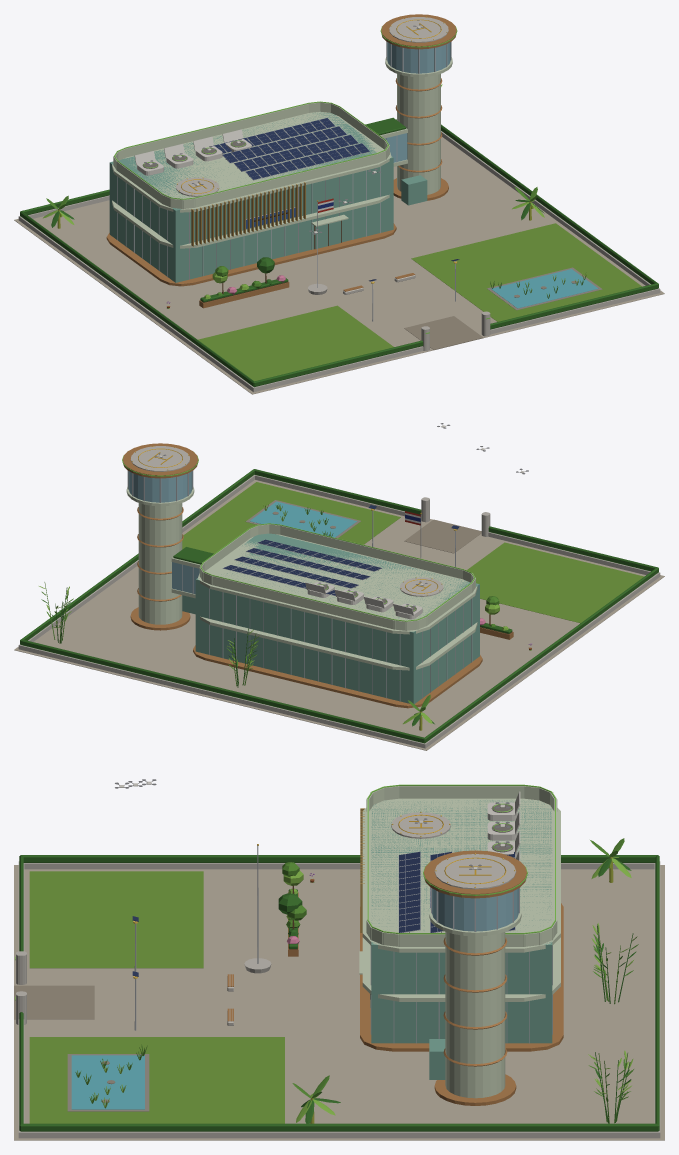
File: police.glb
3 views of the same model, one above another, from view 1: azimuth 30°, elevation 25°; view 2: azimuth 150°, elevation 25°; view 3: azimuth 270°, elevation 25° (orthographic). The views are drawn at different scales.
Parts seen in each view (by area): view 1: body, windows; view 2: body, windows; view 3: body, windows.
Boxes of the visible parts, left/top/right/bottom form: body: left=14, top=14, right=664, bottom=394; windows: left=114, top=17, right=489, bottom=333; body: left=14, top=423, right=664, bottom=750; windows: left=122, top=446, right=474, bottom=621; body: left=14, top=779, right=664, bottom=1140; windows: left=15, top=784, right=555, bottom=1000.
Bounding box in the file's own units: 47.9 × 18.22 × 47.9.
